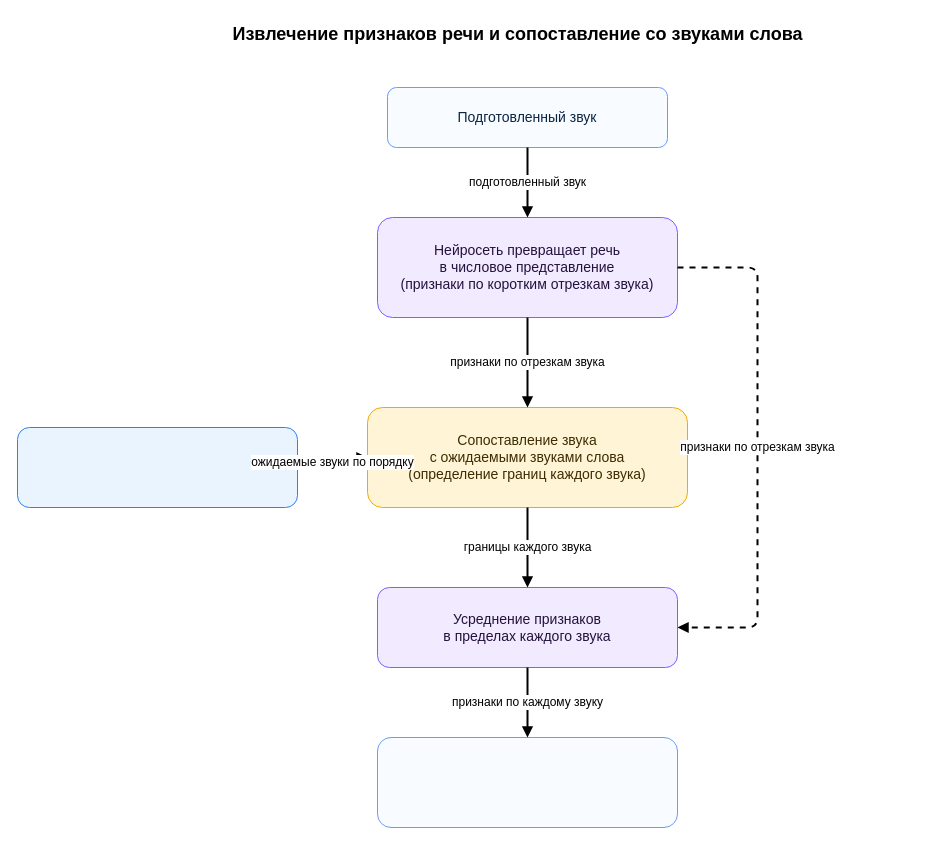
Some shapes in this 935 by 845 pixel diagram are drawn without their labels. Here are the shapes that lost their labels. From the top down, the centre of each, then its label:
At [157,467]: "Ожидаемое слово и его звуки (по порядку)".
At [527,782]: "Готовые данные для модели: признаки по каждому звуку и ожидаемые звуки слова".
